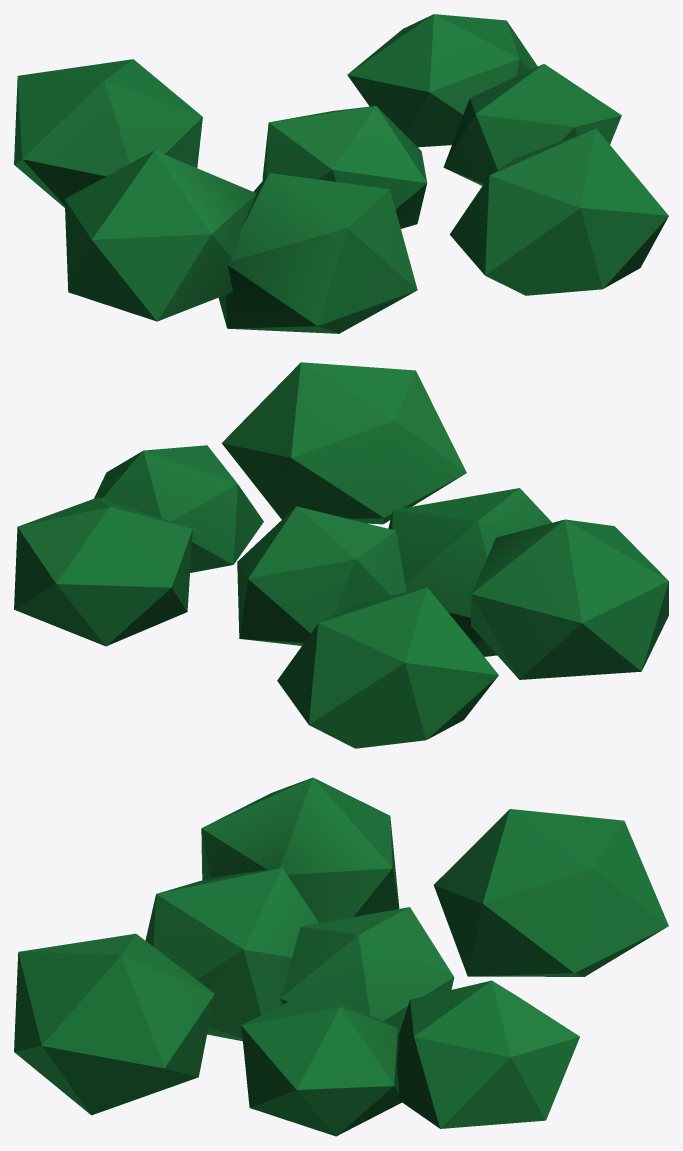
Rendered from forest_clump_broad.glb.
3 renders of one model, top to bottom at view 1: azimuth 30°, elevation 25°; view 2: azimuth 150°, elevation 25°; view 3: azimuth 270°, elevation 25°, orthographic. The views are drawn at different scales.
Size of the model in its own units: 23.13 by 7.29 by 22.68.
